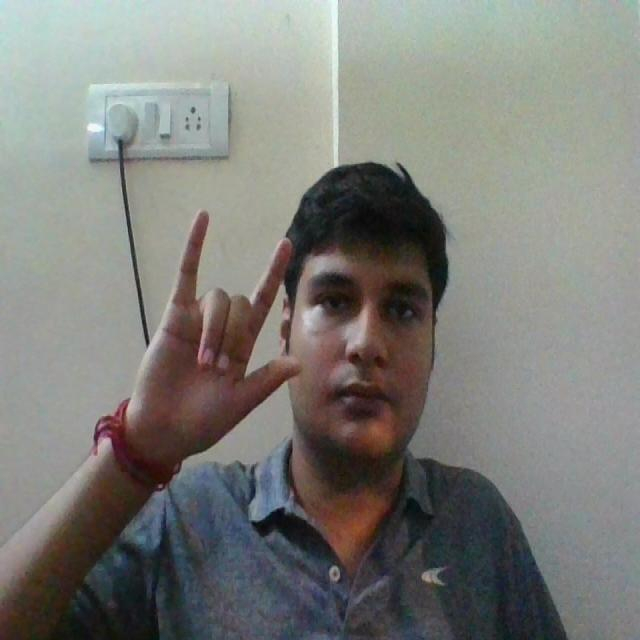I love you: (130, 209, 299, 496)
